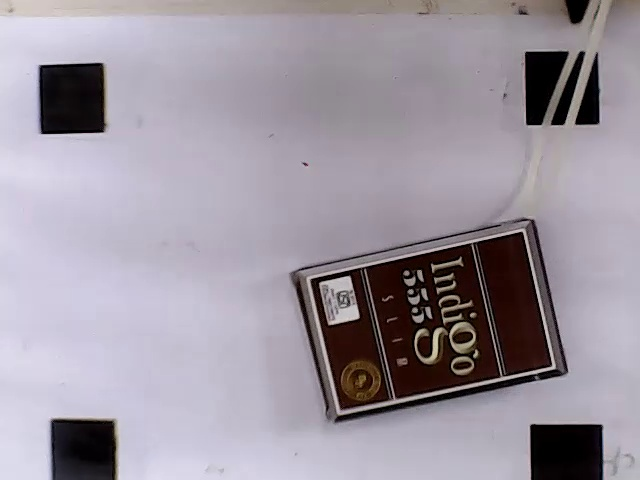BEX: (307, 229, 553, 413)
